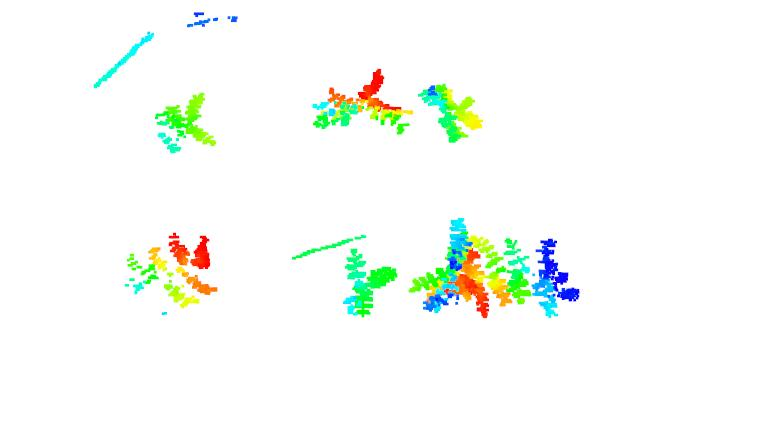chickpea: (478, 233, 584, 316), (410, 217, 490, 314), (122, 234, 221, 312), (314, 69, 413, 137), (417, 80, 484, 142), (340, 249, 399, 318), (156, 90, 217, 154)
